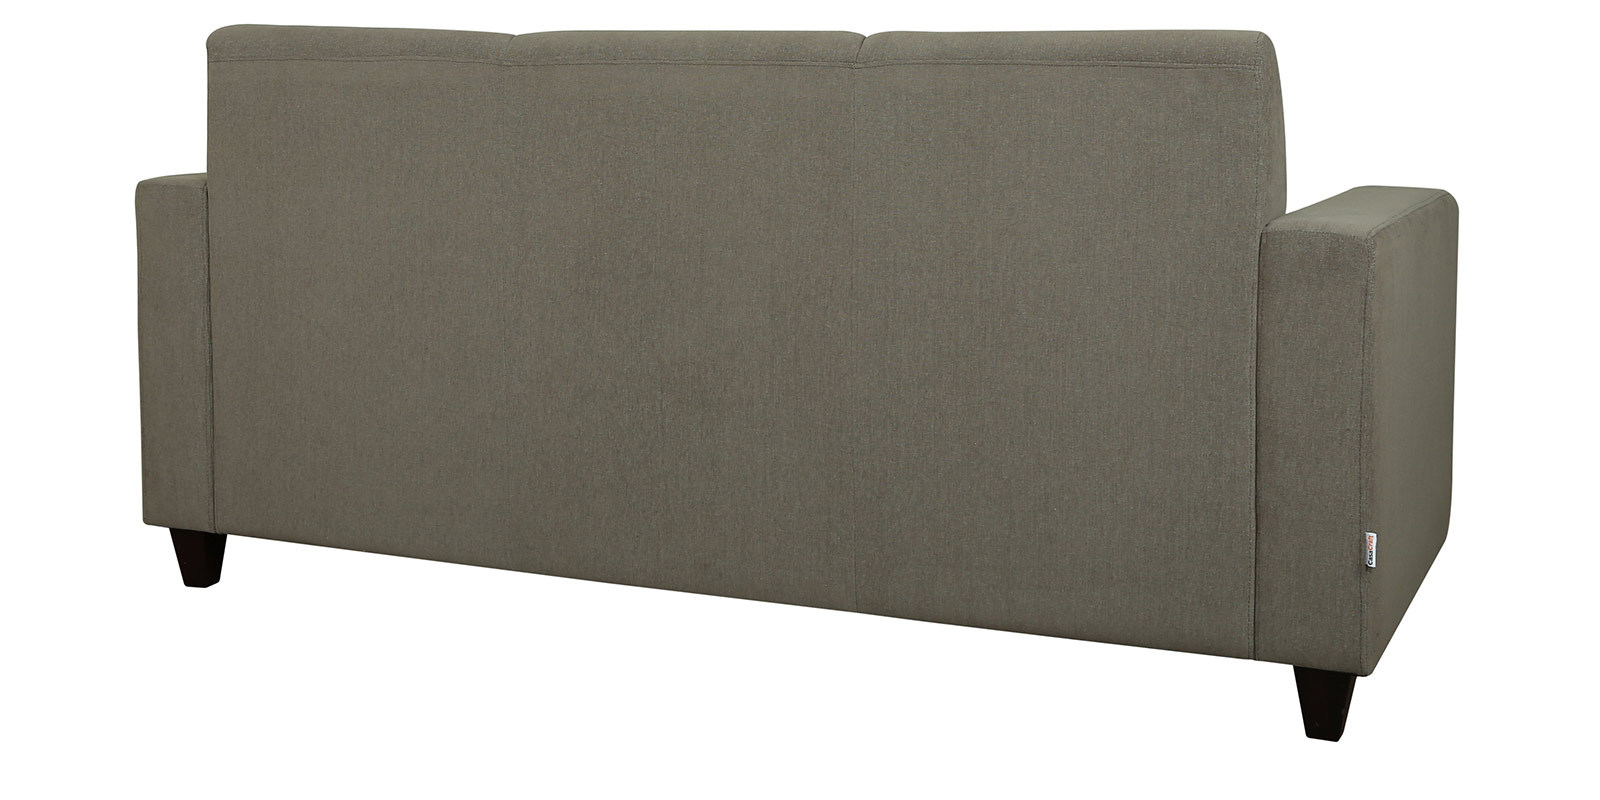Alba Three Seater Sofa in Sandy Brown Colour by CasaCraft: (122, 13, 1470, 765)
